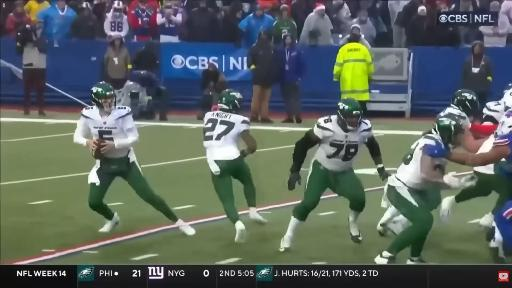Helmet: (433, 118, 463, 148), (337, 98, 362, 130), (452, 90, 479, 117), (91, 82, 115, 110), (218, 90, 242, 113), (496, 110, 512, 136), (500, 88, 511, 111), (504, 83, 511, 93)
Jersey: (74, 106, 138, 157), (313, 116, 372, 171), (390, 135, 443, 189), (204, 111, 249, 160), (437, 105, 472, 128), (483, 102, 505, 123), (493, 132, 511, 151), (500, 89, 511, 111), (474, 164, 494, 174)
Player: (74, 82, 195, 235), (280, 98, 388, 251), (375, 118, 472, 263), (204, 82, 266, 242), (425, 110, 511, 205), (427, 110, 511, 200), (440, 164, 506, 227), (437, 90, 483, 152), (490, 201, 511, 263)
